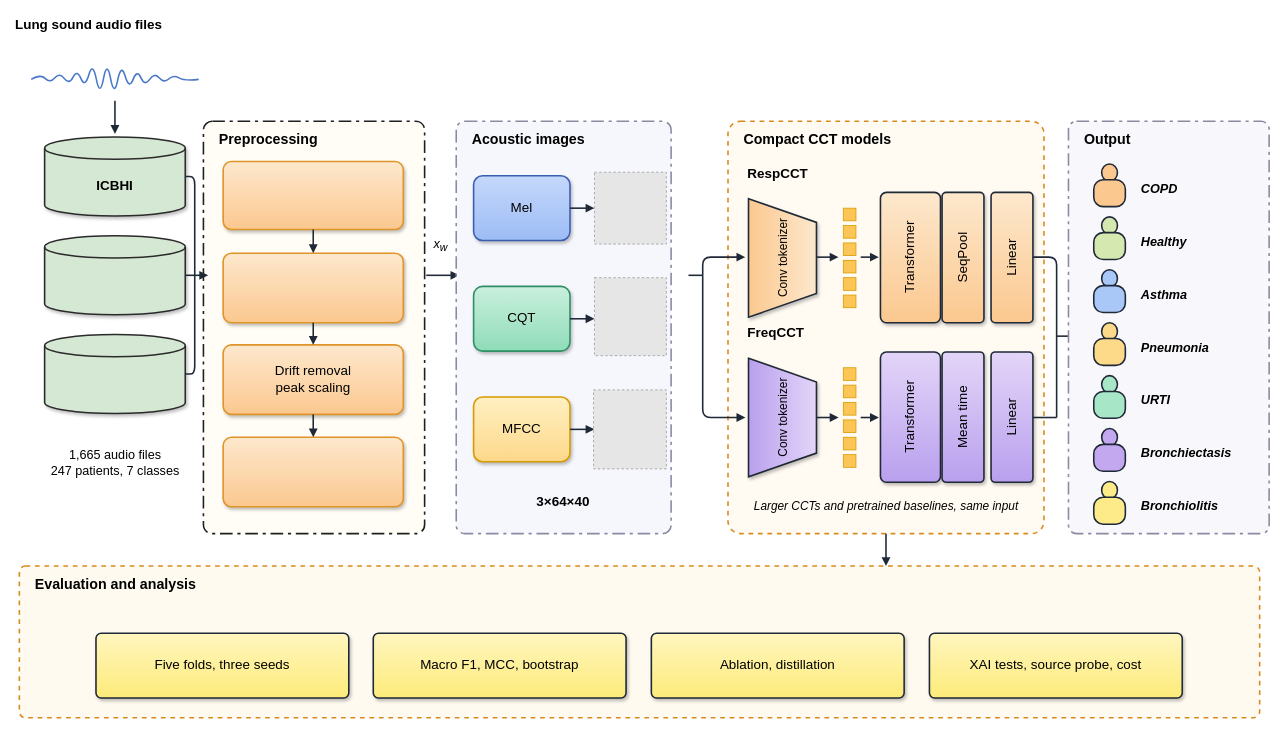
This 1283x732 diagram has some shape labels left out. Grey dashed boxes stand in for pictures. Here are the shapes that lost their labels. From the top down, the centre of each, then its label:
At point (313, 196): "Mono, 4 kHz".
At point (115, 276): "KAUH".
At point (313, 289): "5 s frames 2.5 s hop".
At point (115, 374): "RD@TR".
At point (313, 473): "Balance by augmentation".
